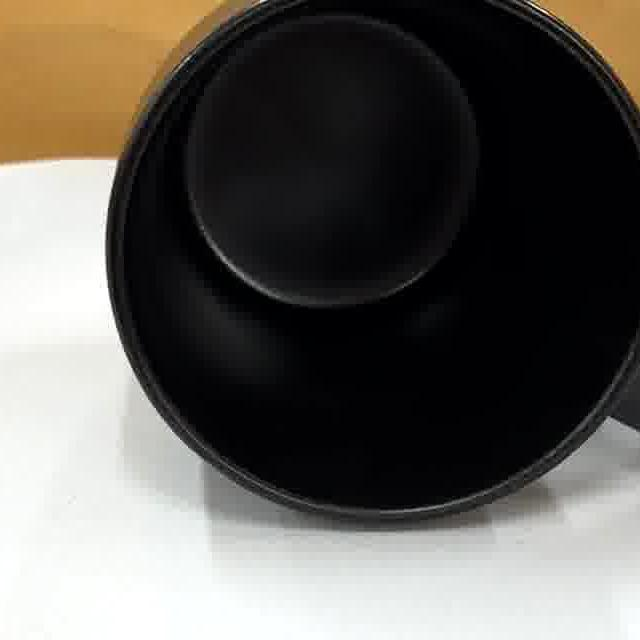cup: (107, 0, 640, 527)
